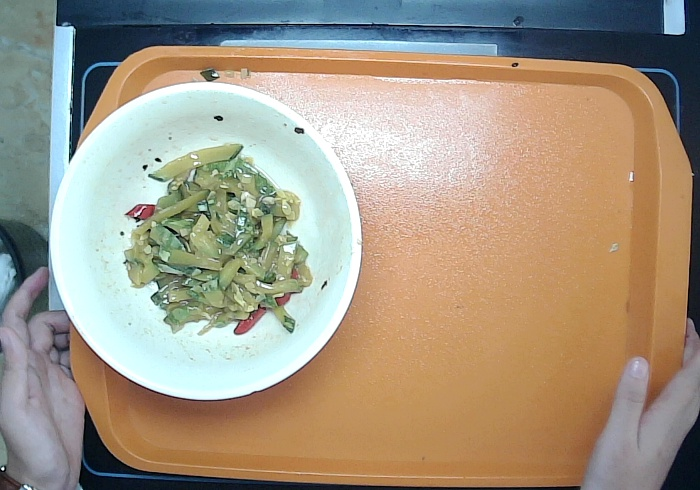ZNLD-Da_Tang_Wan: (44, 80, 363, 403)
